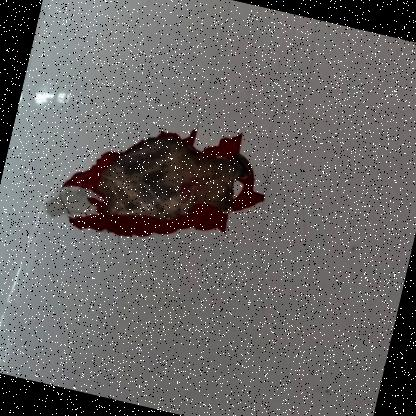Crack: (32, 87, 288, 283), (117, 0, 171, 14)
